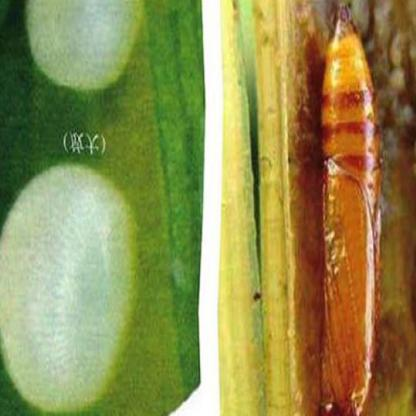whorl-maggot: (320, 3, 381, 416)
